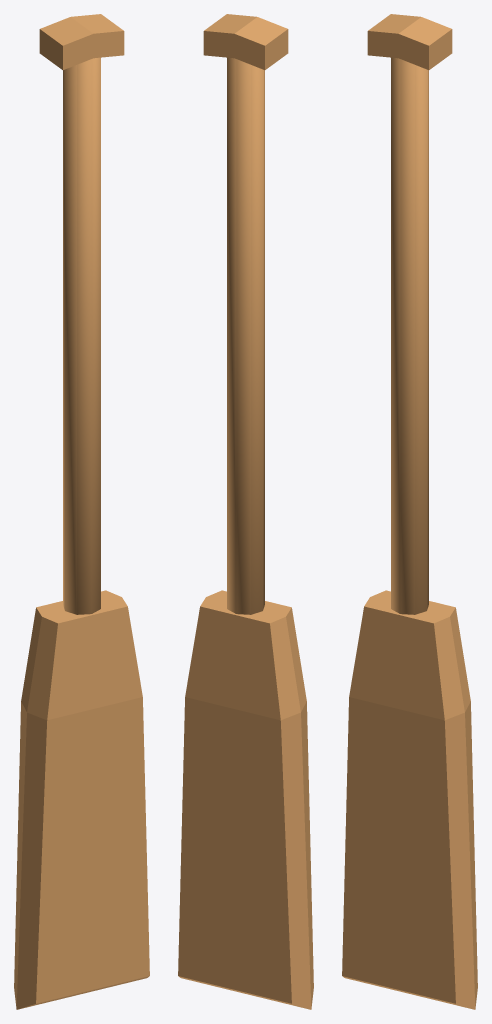
Rendered from Remo.fbx.
The picture shows the model from 3 angles, left to right: view 1: azimuth 30°, elevation 25°; view 2: azimuth 150°, elevation 25°; view 3: azimuth 330°, elevation 25°; orthographic projection.
Visible parts, largest first — view 1: Remo; view 2: Remo; view 3: Remo.
Part boxes in pixels (x1,y1,x2,y2): Remo: [14, 14, 149, 1009]; Remo: [178, 14, 313, 1009]; Remo: [342, 14, 477, 1009].
Bounding box in the file's own units: 36.94 × 261 × 12.76.
